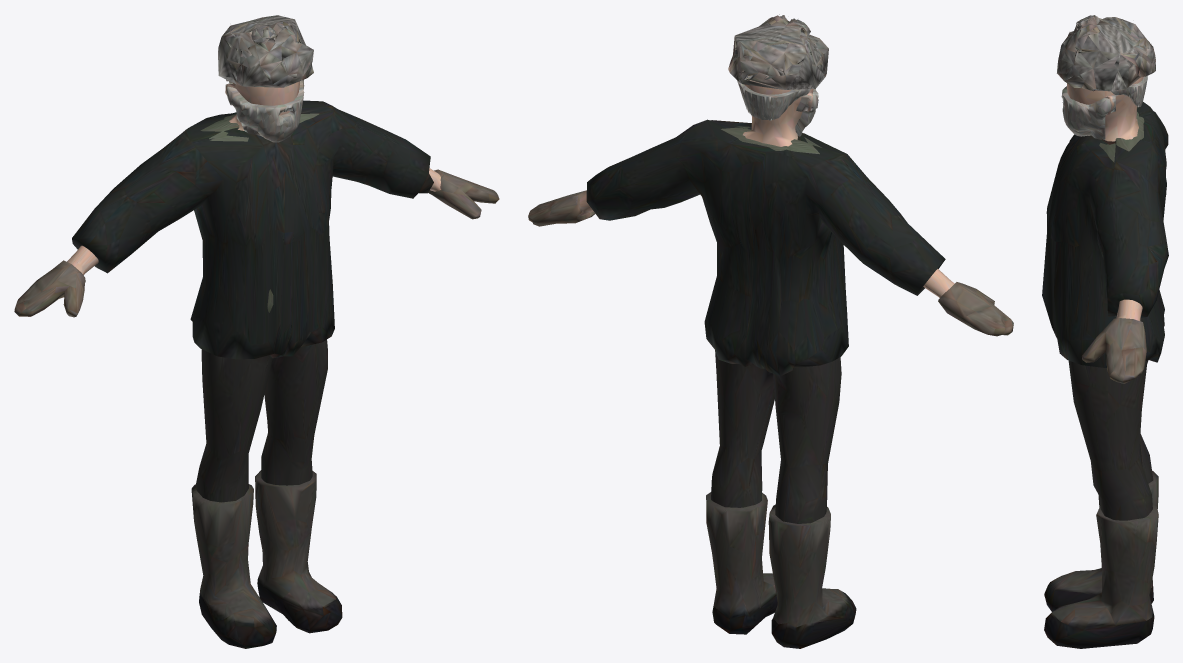
Rendered from npc_x_grandpa_w1.glb.
3 views of the same model, side by side, from view 1: azimuth 30°, elevation 25°; view 2: azimuth 150°, elevation 25°; view 3: azimuth 270°, elevation 25° (orthographic).
Visible parts, largest first — view 1: Human; view 2: Human; view 3: Human.
Part boxes in pixels (bbox=[...]): Human: bbox=[14, 15, 499, 648]; Human: bbox=[528, 14, 1013, 648]; Human: bbox=[1042, 15, 1168, 648].
Size of the model in its own units: 1.51 by 1.8 by 0.3432.
Materials: 1 (1 with a texture image).
